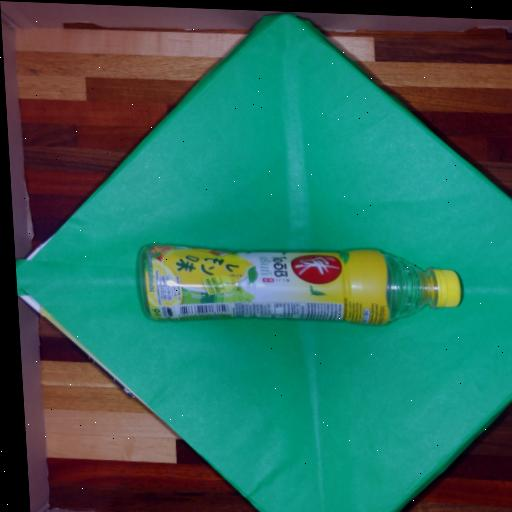bottle: (127, 228, 481, 344)
